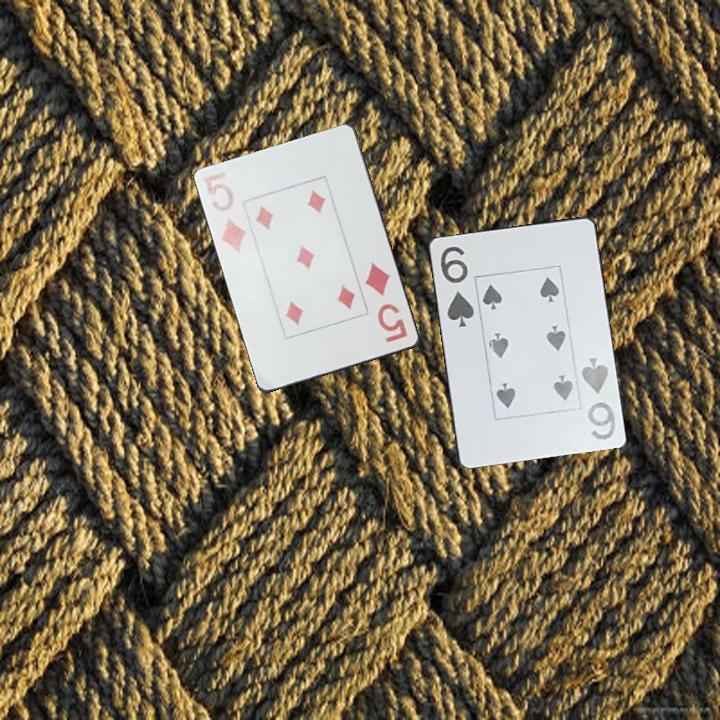5d: (360, 259, 411, 346), (207, 179, 249, 256)
6s: (577, 353, 618, 442), (436, 242, 477, 330)
